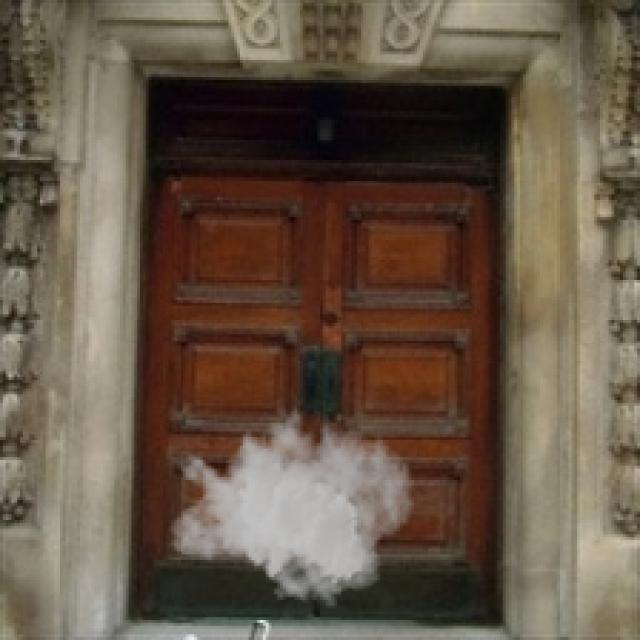Smoke: (168, 397, 414, 609)
